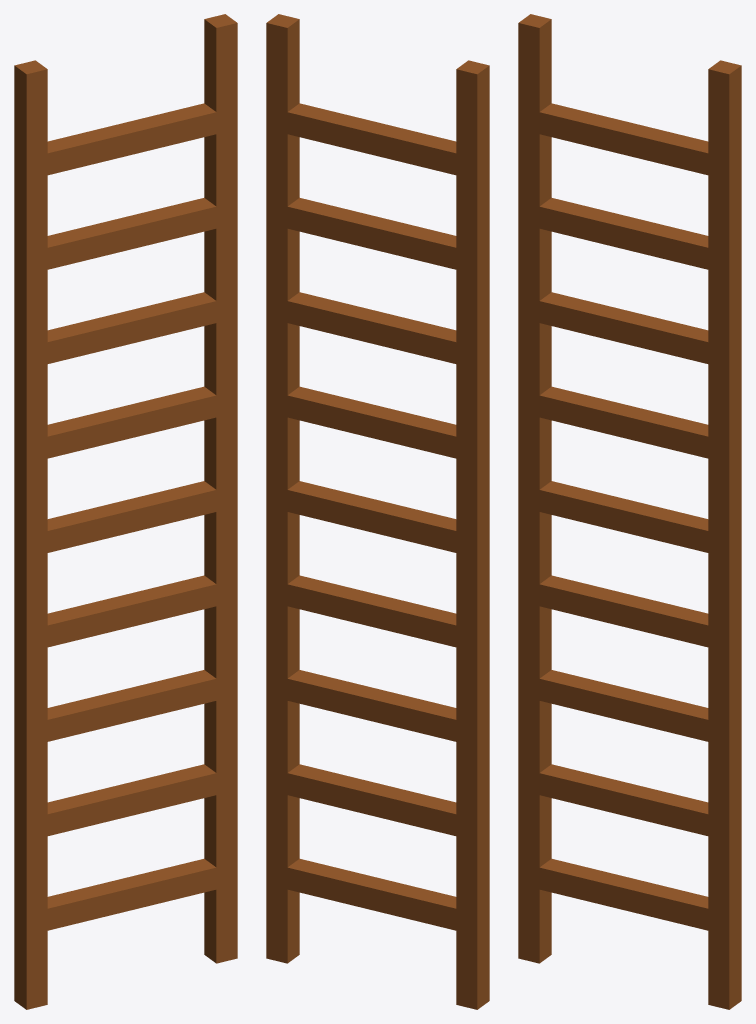
File: Building_Modular_Jetty_Walkway_Timber_Ladder_Short_01.fbx.fbx
3 renders of one model, left to right at view 1: azimuth 30°, elevation 25°; view 2: azimuth 150°, elevation 25°; view 3: azimuth 330°, elevation 25°, orthographic.
Visible parts, largest first — view 1: Building_Modular_Jetty_Walkway_Timber_Ladder_Short_01.fbx; view 2: Building_Modular_Jetty_Walkway_Timber_Ladder_Short_01.fbx; view 3: Building_Modular_Jetty_Walkway_Timber_Ladder_Short_01.fbx.
Boxes of the visible parts, x1=… form: Building_Modular_Jetty_Walkway_Timber_Ladder_Short_01.fbx: x1=14, y1=14, x2=237, y2=1009; Building_Modular_Jetty_Walkway_Timber_Ladder_Short_01.fbx: x1=266, y1=14, x2=489, y2=1009; Building_Modular_Jetty_Walkway_Timber_Ladder_Short_01.fbx: x1=518, y1=14, x2=741, y2=1009.
Size of the model in its own units: 30.71 by 130 by 3.06.
